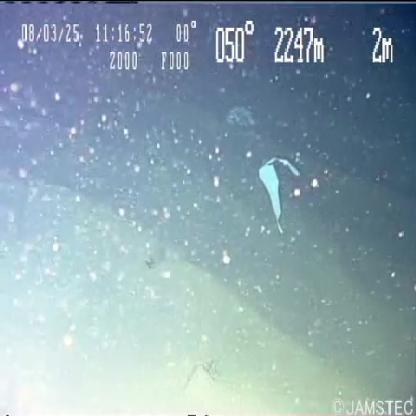Rác: (258, 157, 298, 221)
